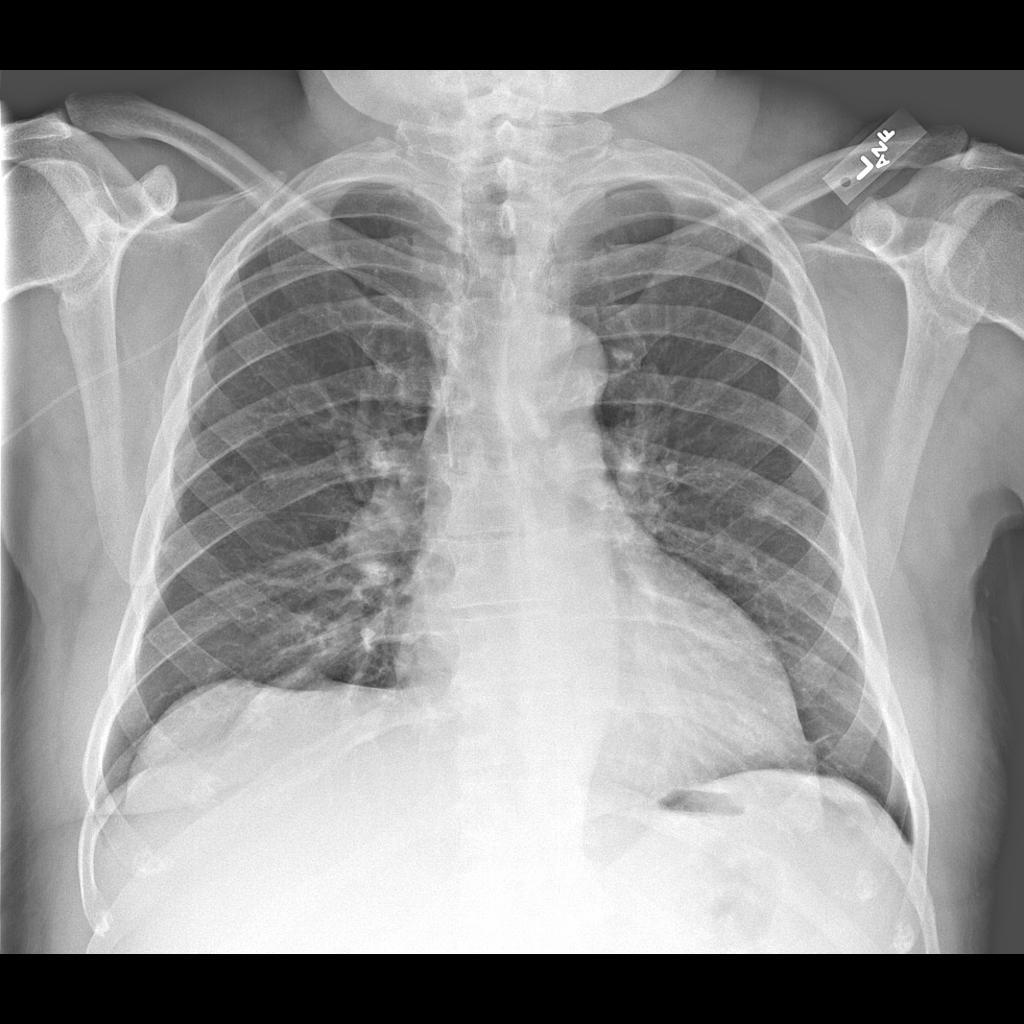Nodule: (742, 482, 783, 526)
